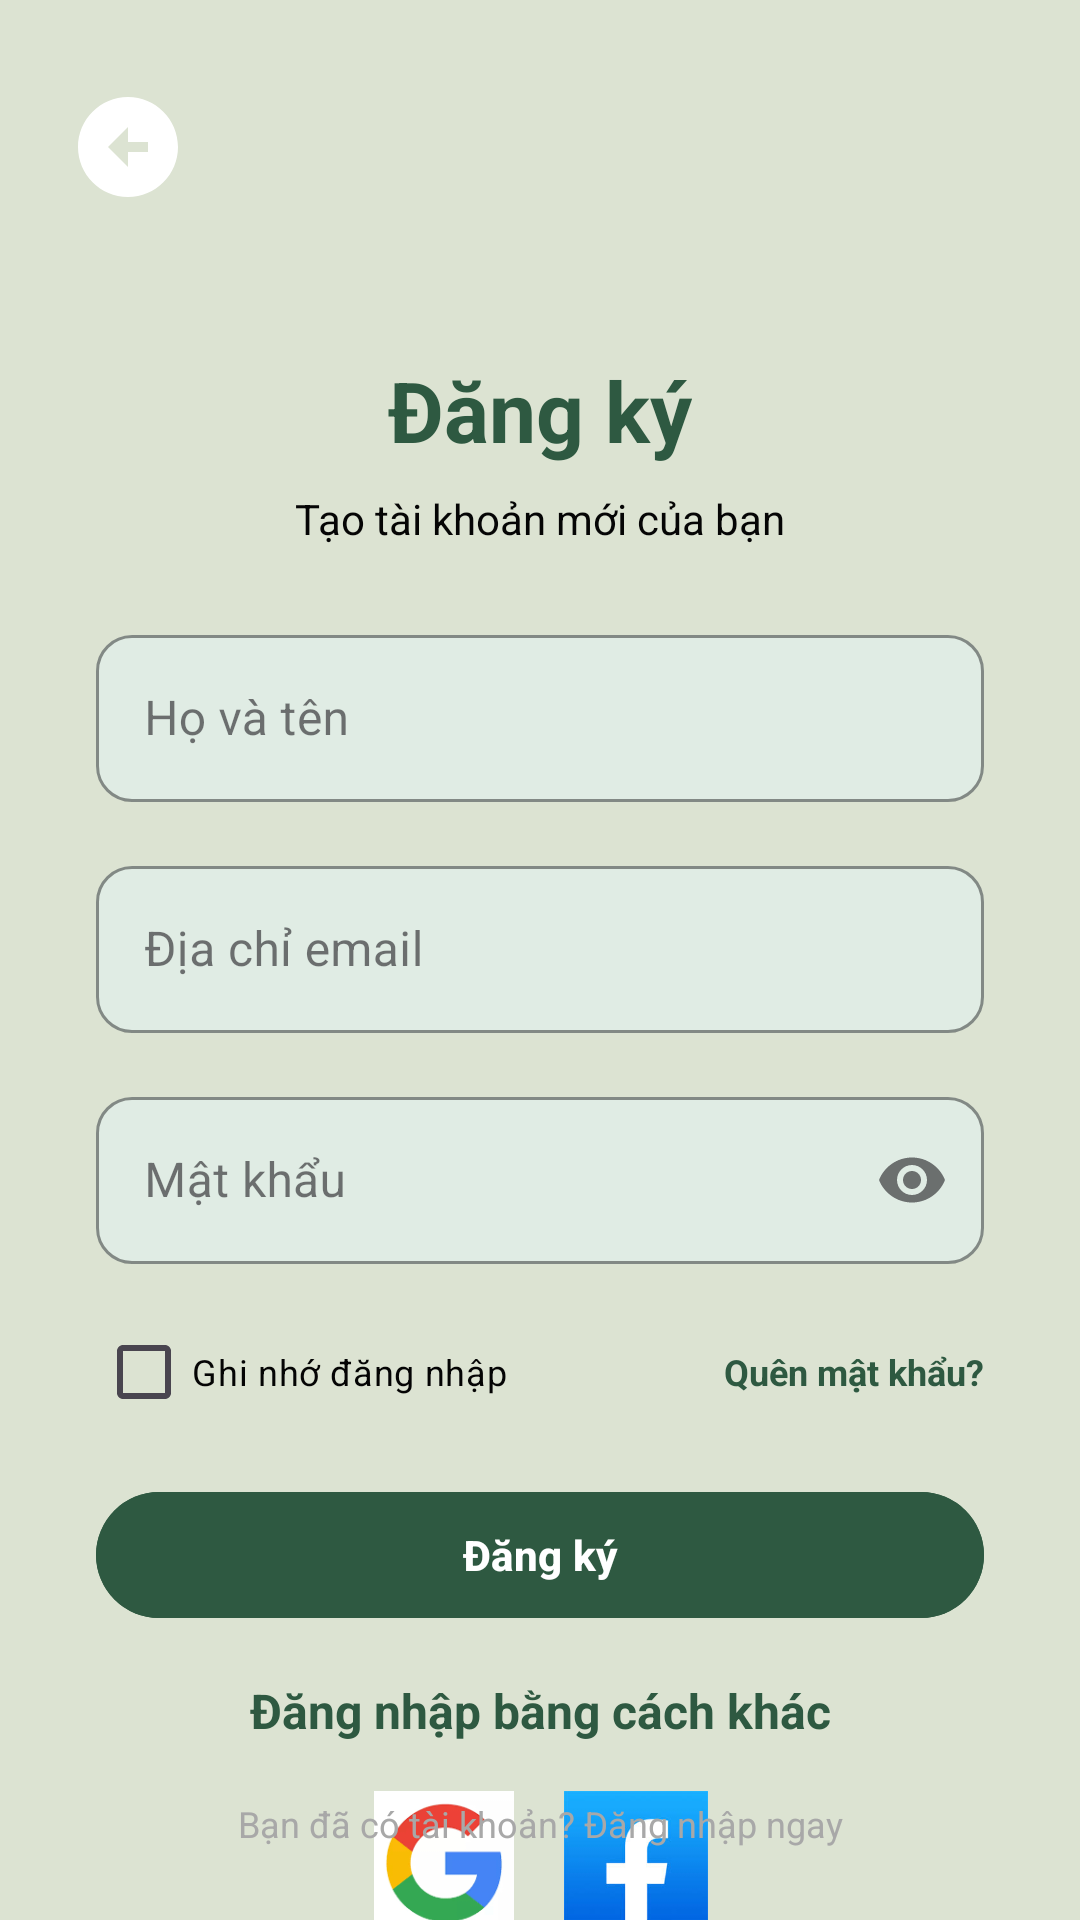

Icon bounding boxes for this 1080×1920 phone screenshot, format (x1, y1, x2, y2):
Back: (78, 97, 178, 197)
